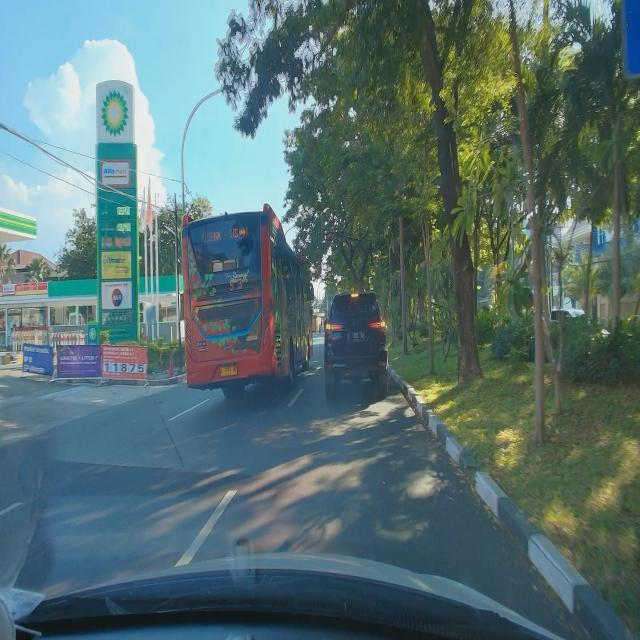bus: (180, 202, 316, 400)
car: (324, 290, 389, 399)
license-plate: (220, 365, 237, 377), (347, 332, 365, 342)
